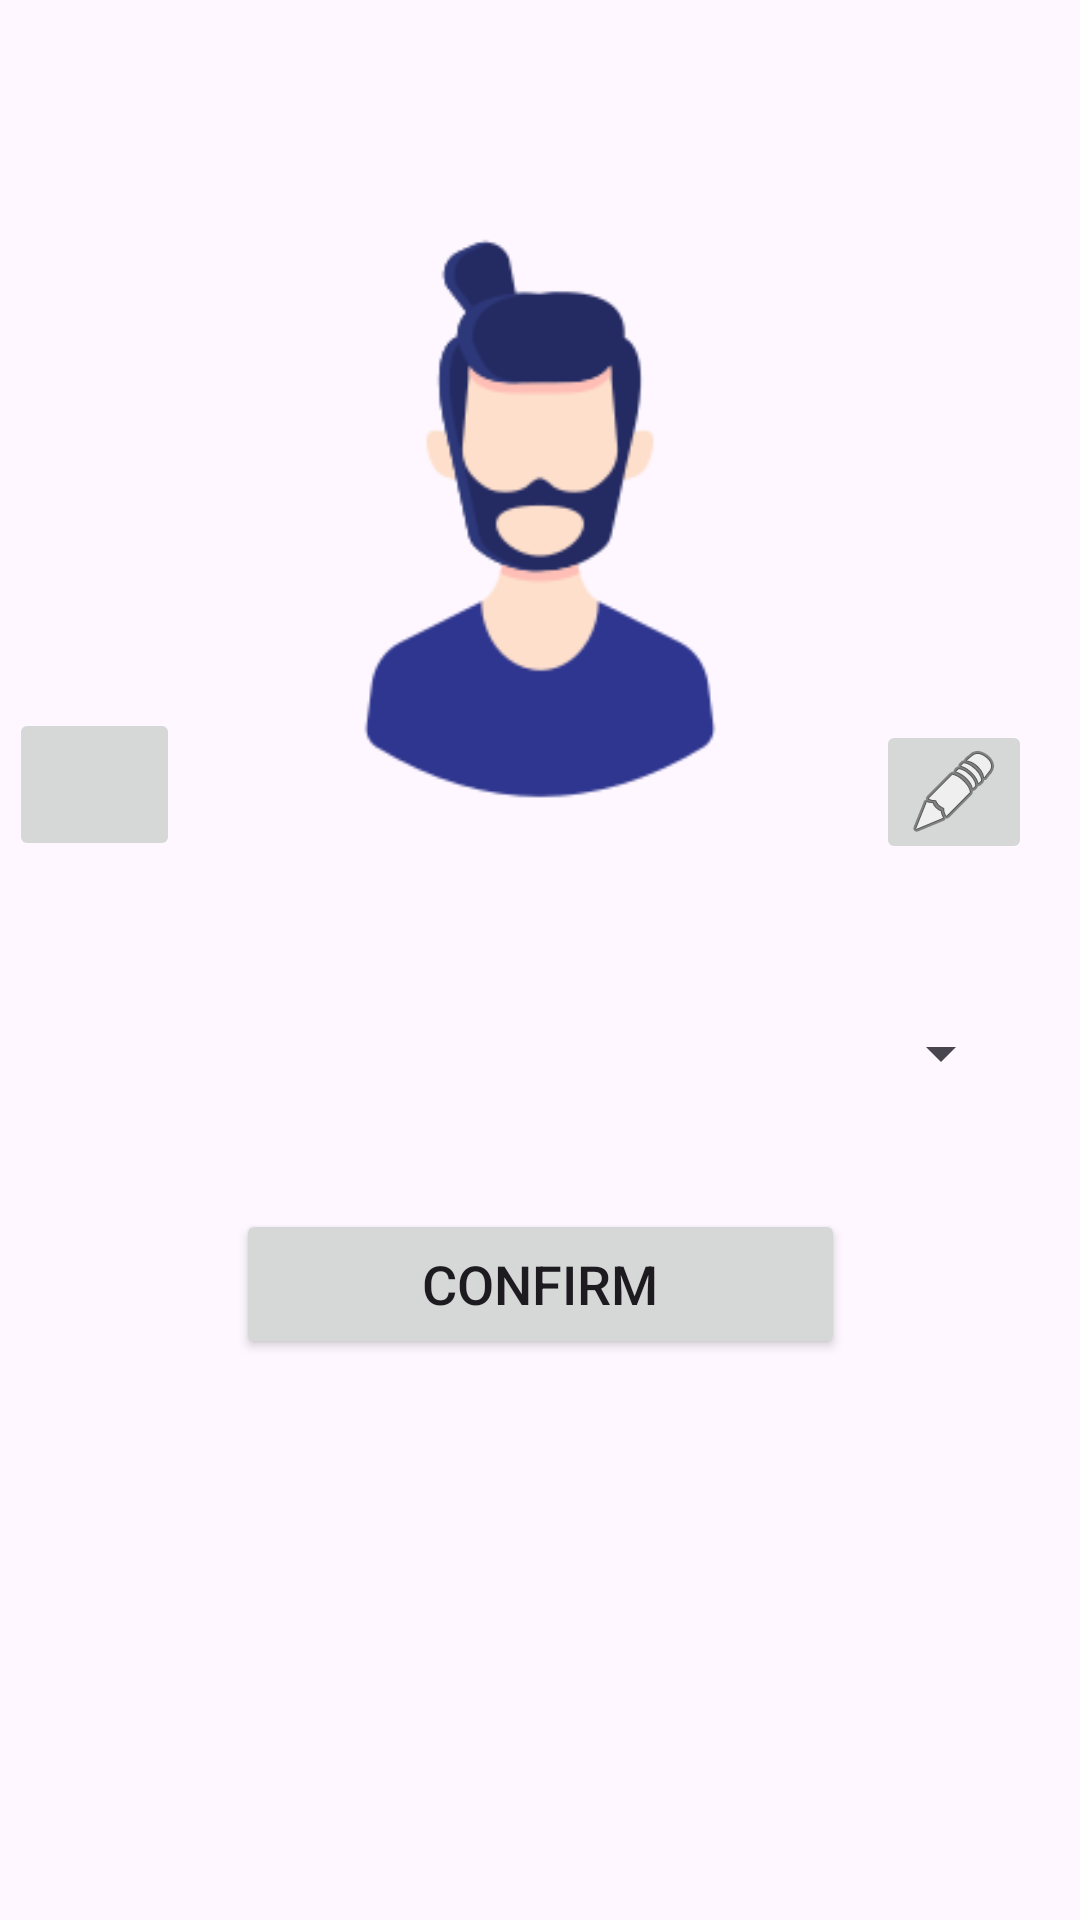

Screen size 1080×1920. Icon name, then its box in pixels as (x1, y1, x2, y2):
edit: (888, 738, 1020, 846)
